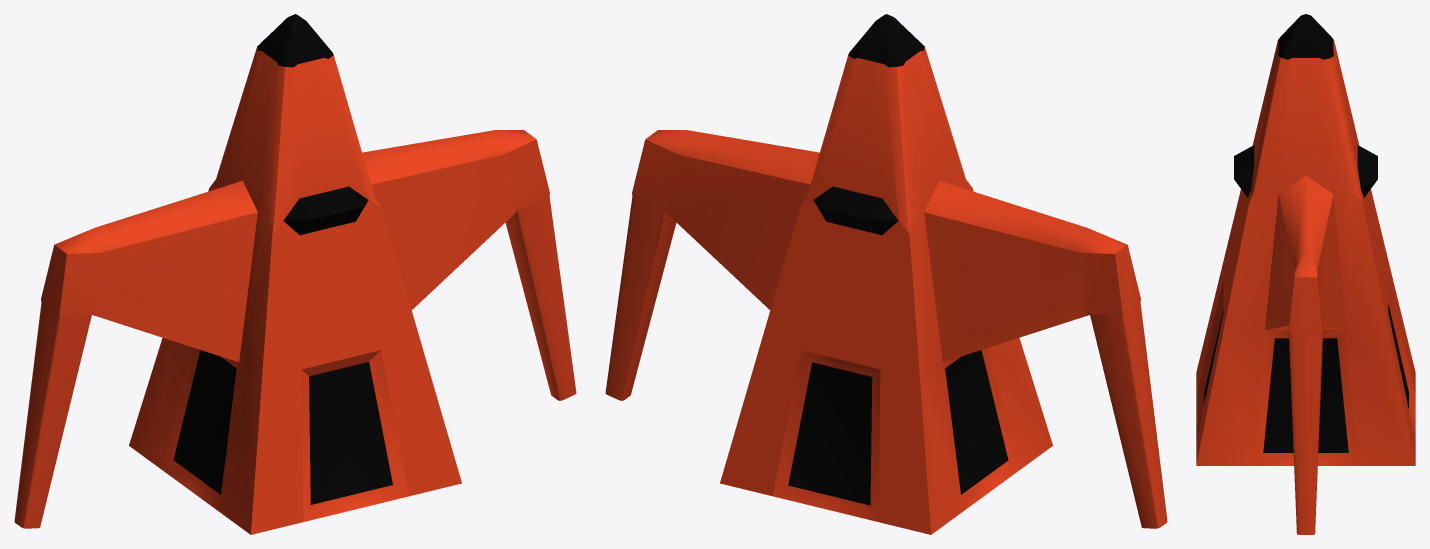
Rendered from Ruins 15.fbx.
The picture shows the model from 3 angles, left to right: view 1: azimuth 30°, elevation 25°; view 2: azimuth 150°, elevation 25°; view 3: azimuth 270°, elevation 25°; orthographic projection. The views are drawn at different scales.
Visible parts, largest first — view 1: Ruins 15; view 2: Ruins 15; view 3: Ruins 15.
Boxes of the visible parts, x1=… form: Ruins 15: x1=14, y1=14, x2=576, y2=534; Ruins 15: x1=605, y1=14, x2=1167, y2=534; Ruins 15: x1=1196, y1=14, x2=1415, y2=534.
Bounding box in the file's own units: 52.5 × 40.75 × 20.
2 materials, 2 textured.
